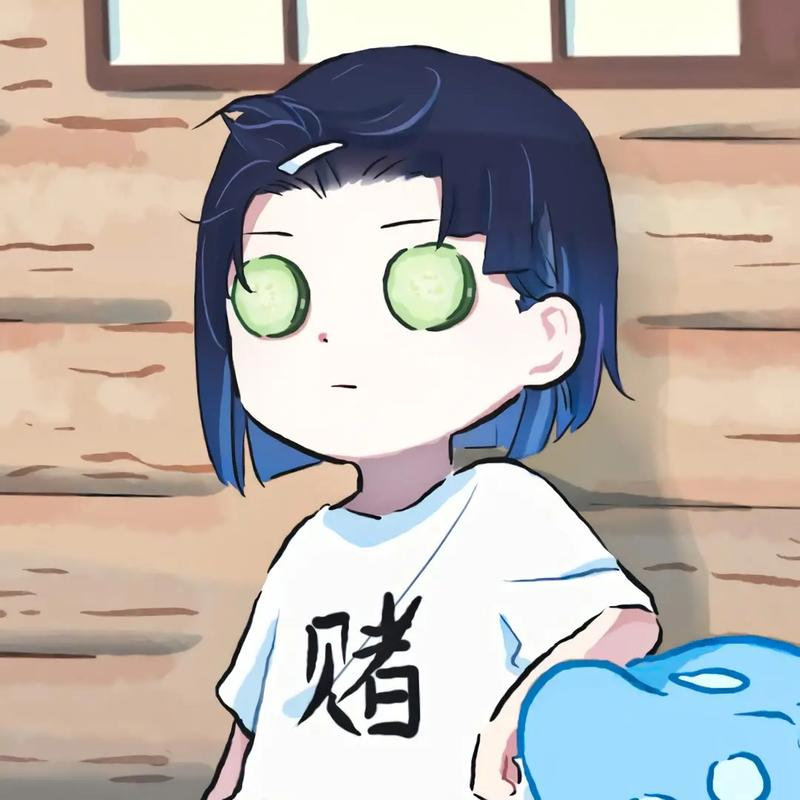夜兰: (151, 46, 663, 800)
